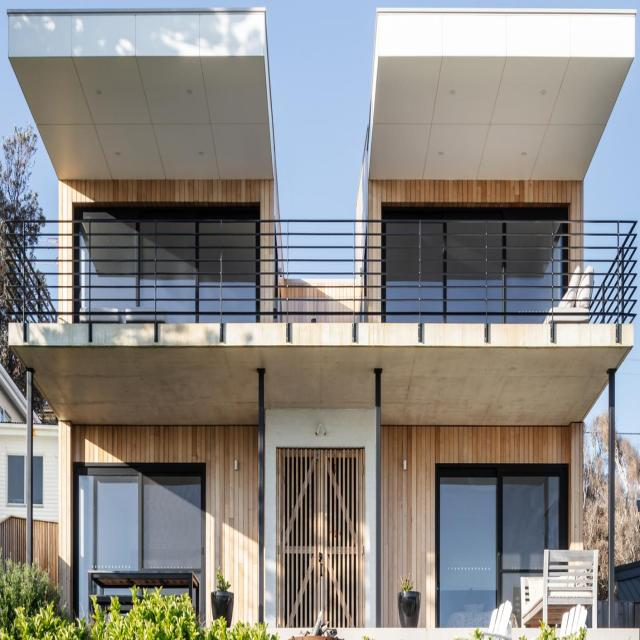door: (436, 467, 569, 639), (71, 457, 203, 630), (275, 447, 365, 634)
railing: (7, 215, 638, 325)
